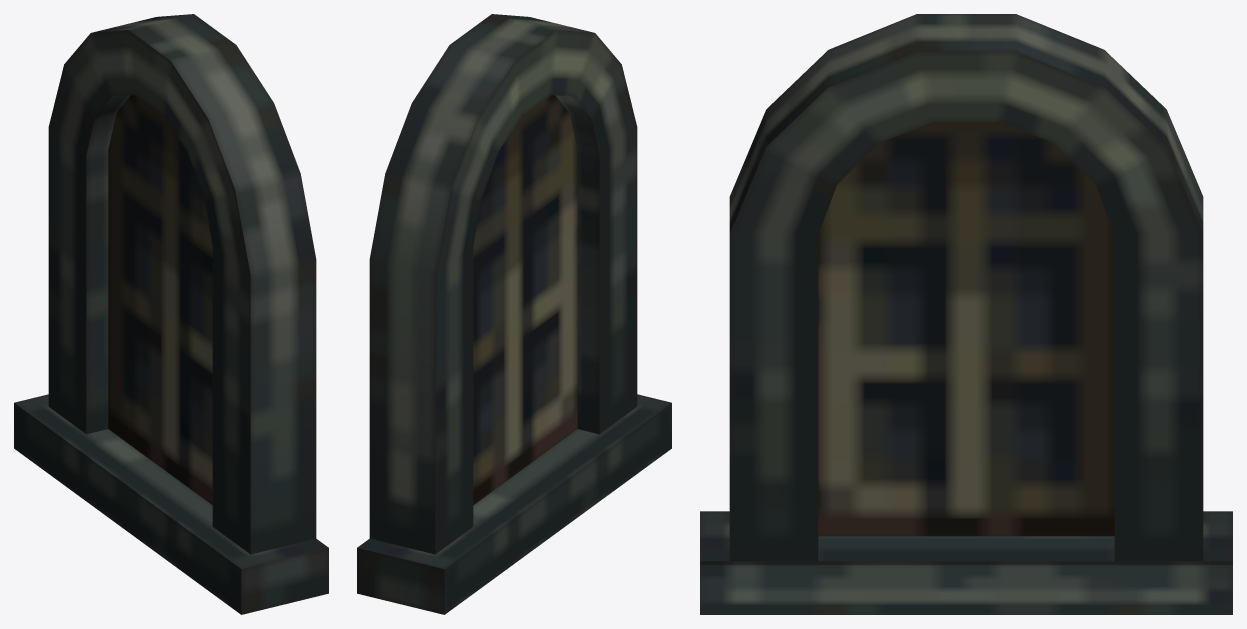
Rendered from EnvBdgMD_Forest_A_Outdoor_Window.fbx.
3 views of the same model, side by side, from view 1: azimuth 30°, elevation 25°; view 2: azimuth 150°, elevation 25°; view 3: azimuth 270°, elevation 25° (orthographic). The views are drawn at different scales.
Visible parts, largest first — view 1: EnvBdgMD_Forest_A_Outdoor_Window; view 2: EnvBdgMD_Forest_A_Outdoor_Window; view 3: EnvBdgMD_Forest_A_Outdoor_Window.
Boxes of the visible parts, <box> form: EnvBdgMD_Forest_A_Outdoor_Window: <box>14,14,328,614</box>; EnvBdgMD_Forest_A_Outdoor_Window: <box>357,14,671,614</box>; EnvBdgMD_Forest_A_Outdoor_Window: <box>700,14,1232,614</box>.
Bounding box in the file's own units: 20 × 105 × 90.
